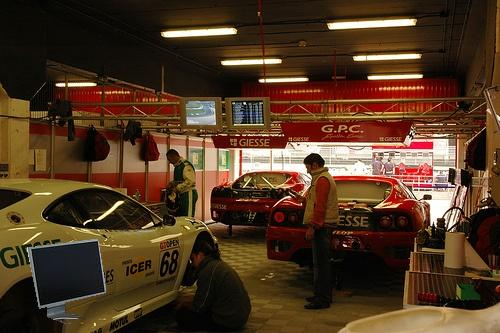tampered: (28, 239, 106, 324)
